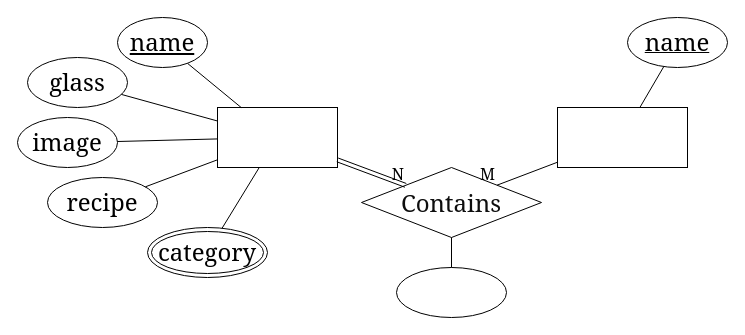
The diagram is 745 pixels wide and 335 high, and some of its shapes have lost their labels. Each missing label, with the centre of its shape:
"amount" goes at point (451, 292).
"Cocktail" goes at point (277, 137).
"Ingredient" goes at point (622, 137).
